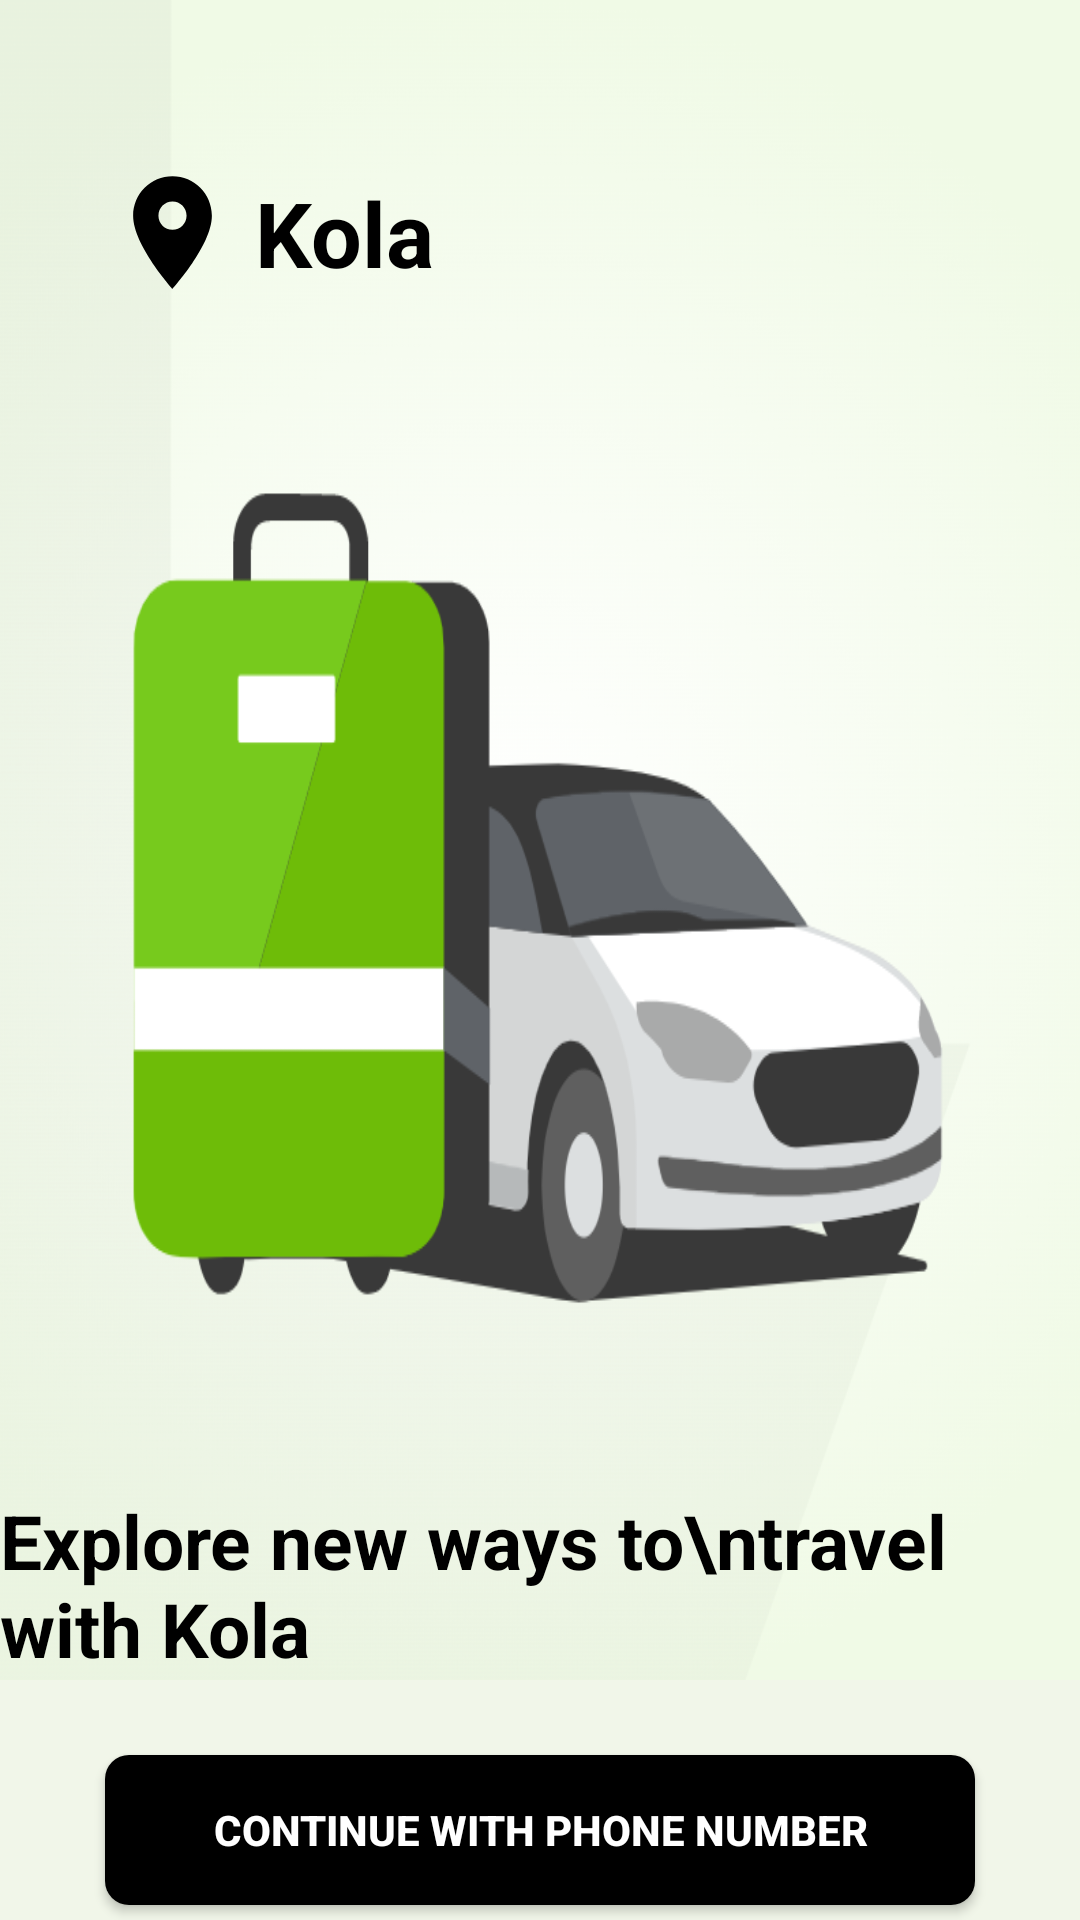

Icons on this 1080×1920 Android screen, each with the point to tap as [x,y]:
location on: [172,232]
